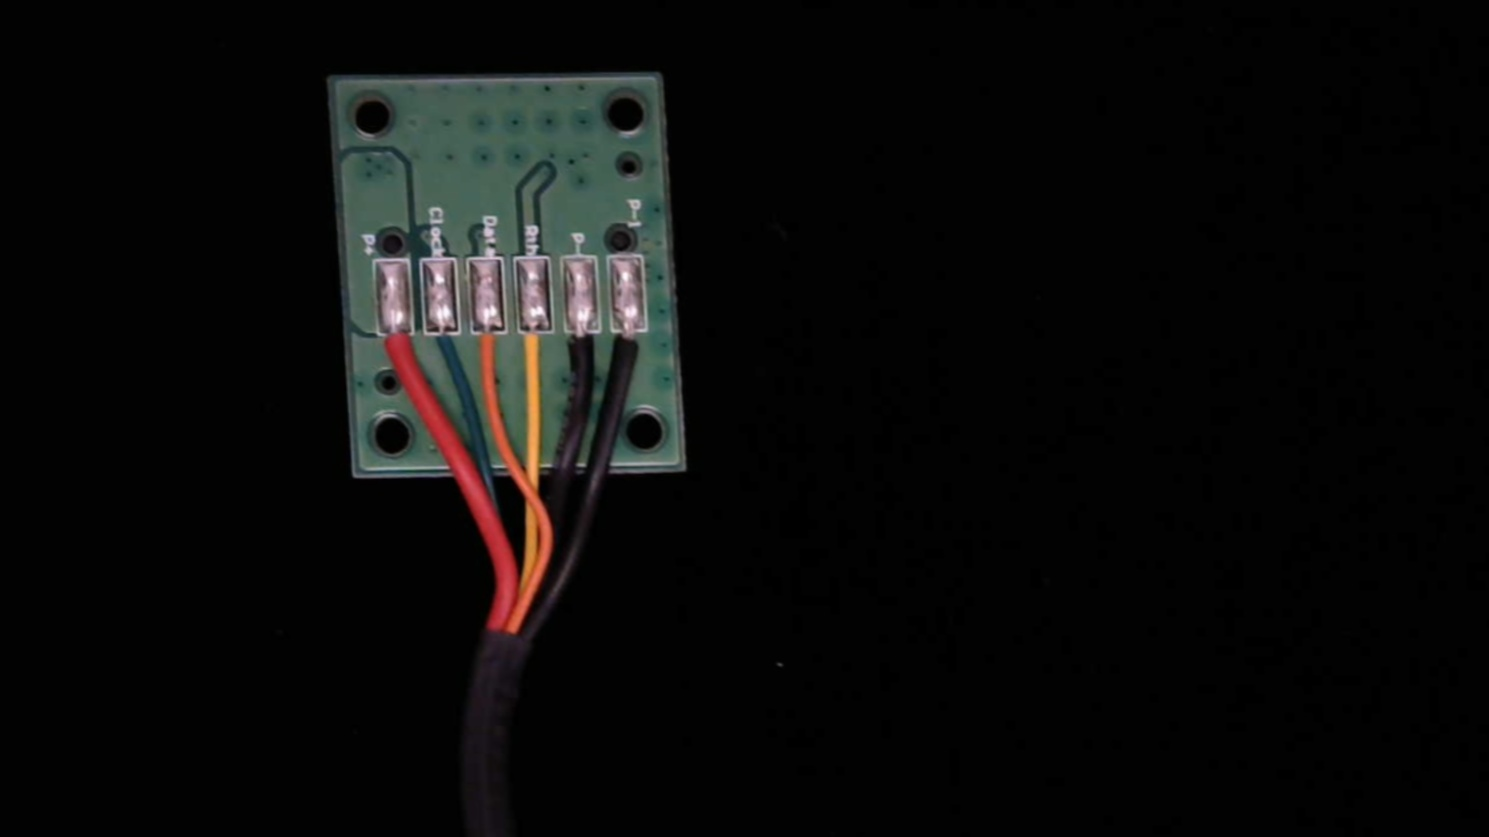Black: (559, 314, 604, 402)
Black1: (610, 313, 651, 394)
Green: (423, 312, 465, 385)
Orange: (468, 312, 509, 398)
Red: (376, 310, 420, 390)
Yellow: (514, 313, 558, 402)
